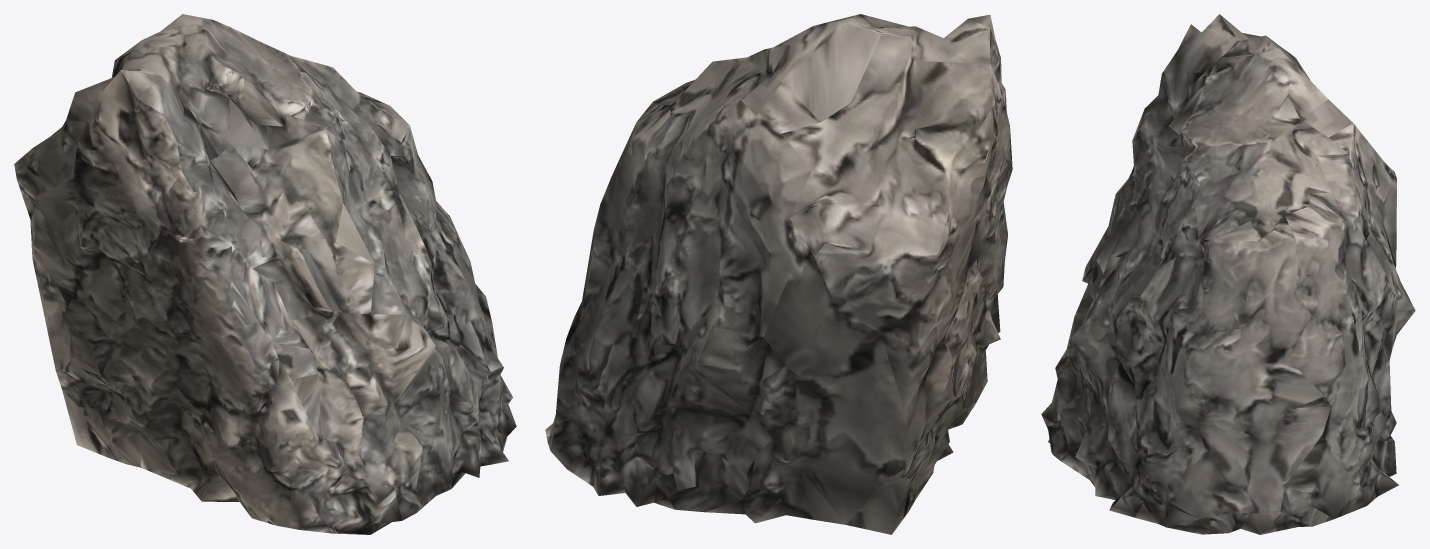
Rendered from crag_c_lod2.glb.
The picture shows the model from 3 angles, left to right: view 1: azimuth 30°, elevation 25°; view 2: azimuth 150°, elevation 25°; view 3: azimuth 270°, elevation 25°; orthographic projection. The views are drawn at different scales.
Parts seen in each view (by area): view 1: crag_c_lod2; view 2: crag_c_lod2; view 3: crag_c_lod2.
Part boxes in pixels (bbox=[...]): crag_c_lod2: bbox=[14, 14, 516, 534]; crag_c_lod2: bbox=[545, 14, 1012, 534]; crag_c_lod2: bbox=[1041, 14, 1415, 534].
Bounding box in the file's own units: 52.77 × 53.97 × 49.08.
Materials: 1 (1 with a texture image).
